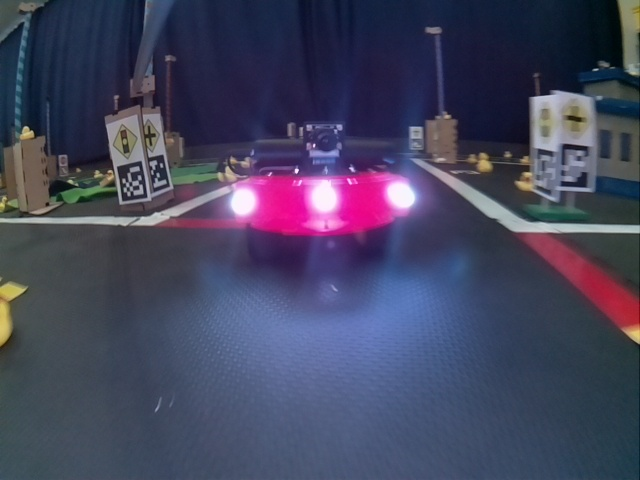Duckie: (517, 172, 531, 191), (23, 129, 32, 139), (481, 163, 490, 172)
Duckiebot: (235, 126, 412, 238)
Intersection sign: (562, 95, 593, 142), (144, 118, 162, 152)
QR code: (562, 148, 593, 190), (534, 149, 558, 197), (117, 162, 144, 200), (149, 157, 171, 192)
Signal sign: (534, 101, 558, 146), (111, 122, 138, 157)
